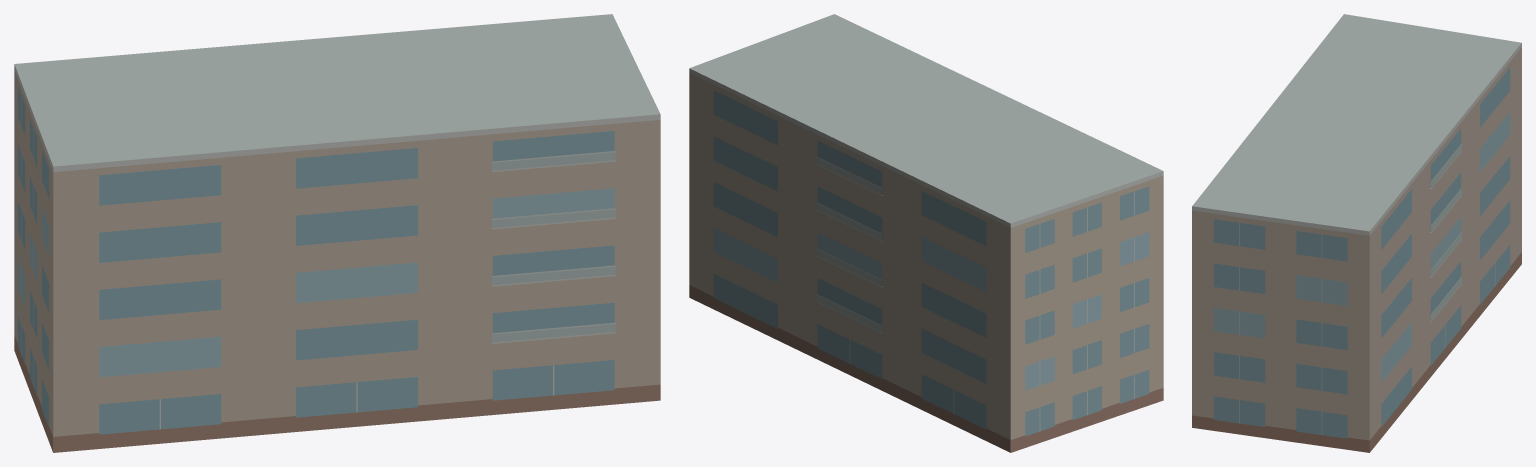
The model's file is survey-upis-32818460.glb.
3 renders of one model, left to right at view 1: azimuth 30°, elevation 25°; view 2: azimuth 150°, elevation 25°; view 3: azimuth 270°, elevation 25°, orthographic. The views are drawn at different scales.
Visible parts, largest first — view 1: survey-upis-32818460.tmp; view 2: survey-upis-32818460.tmp; view 3: survey-upis-32818460.tmp.
Boxes of the visible parts, x1,y1,x2,y2 form: survey-upis-32818460.tmp: (14,14,660,452); survey-upis-32818460.tmp: (689,14,1163,452); survey-upis-32818460.tmp: (1192,14,1521,452).
Size of the model in its own units: 26.53 by 12.6 by 17.01.
